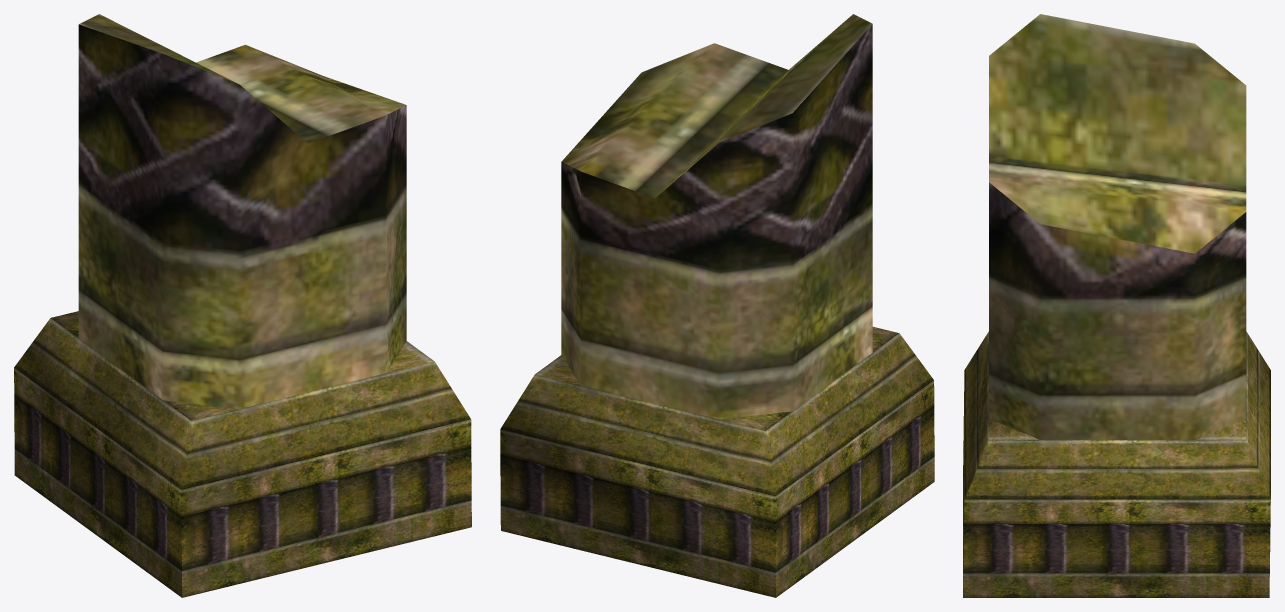
Rendered from OVERHILL_A_01_LINE392.fbx.
3 renders of one model, left to right at view 1: azimuth 30°, elevation 25°; view 2: azimuth 150°, elevation 25°; view 3: azimuth 270°, elevation 25°, orthographic. The views are drawn at different scales.
Parts seen in each view (by area): view 1: OVERHILL_A_01_LINE392; view 2: OVERHILL_A_01_LINE392; view 3: OVERHILL_A_01_LINE392.
Boxes of the visible parts, box(x1,y1,x2,y2) form: OVERHILL_A_01_LINE392: box(14, 14, 471, 597); OVERHILL_A_01_LINE392: box(500, 14, 934, 597); OVERHILL_A_01_LINE392: box(963, 14, 1270, 597).
Size of the model in its own units: 12277 by 20548 by 12330.
Materials: 4 (4 with a texture image).
